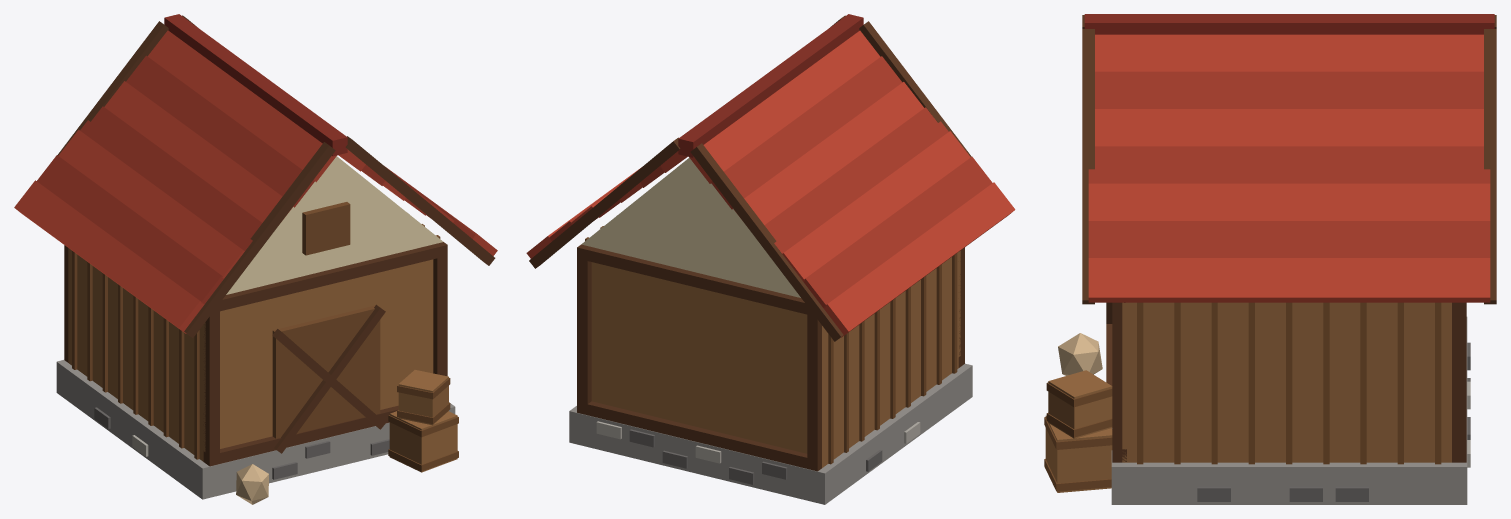
File: storehouse.glb
3 renders of one model, left to right at view 1: azimuth 30°, elevation 25°; view 2: azimuth 150°, elevation 25°; view 3: azimuth 270°, elevation 25°, orthographic. The views are drawn at different scales.
Visible parts, largest first — view 1: plank, roof_red, roof_red_mid, timber, plank_dark, plaster, footing, ridge, stone_dark, sack; view 2: plank, roof_red, roof_red_mid, timber, plaster, footing, plank_dark, ridge, stone_dark, stone_light; view 3: roof_red, plank, roof_red_mid, footing, plank_dark, timber, ridge, stone_dark, sack.
Part boxes in pixels (x1,y1,x2,y2): plank: [68, 248, 457, 472]; roof_red: [14, 30, 497, 333]; roof_red_mid: [37, 55, 475, 305]; timber: [57, 15, 495, 466]; plank_dark: [72, 202, 458, 471]; plaster: [226, 156, 443, 294]; footing: [56, 360, 455, 499]; ridge: [164, 14, 347, 156]; stone_dark: [94, 407, 389, 479]; sack: [236, 464, 268, 504]; plank: [591, 251, 960, 467]; roof_red: [526, 30, 1015, 337]; roof_red_mid: [549, 56, 992, 307]; timber: [529, 15, 971, 471]; plaster: [581, 157, 800, 297]; footing: [569, 363, 972, 504]; plank_dark: [585, 226, 957, 464]; ridge: [678, 14, 863, 157]; stone_dark: [629, 429, 882, 484]; stone_light: [596, 421, 920, 463]; roof_red: [1088, 34, 1490, 302]; plank: [1045, 302, 1451, 492]; roof_red_mid: [1088, 71, 1490, 257]; footing: [1111, 317, 1467, 504]; plank_dark: [1044, 302, 1441, 491]; timber: [1082, 15, 1496, 462]; ridge: [1084, 14, 1494, 34]; stone_dark: [1197, 342, 1470, 501]; sack: [1058, 333, 1102, 375].
Bounding box in the file's own units: 2.14 × 2.2 × 2.16.
